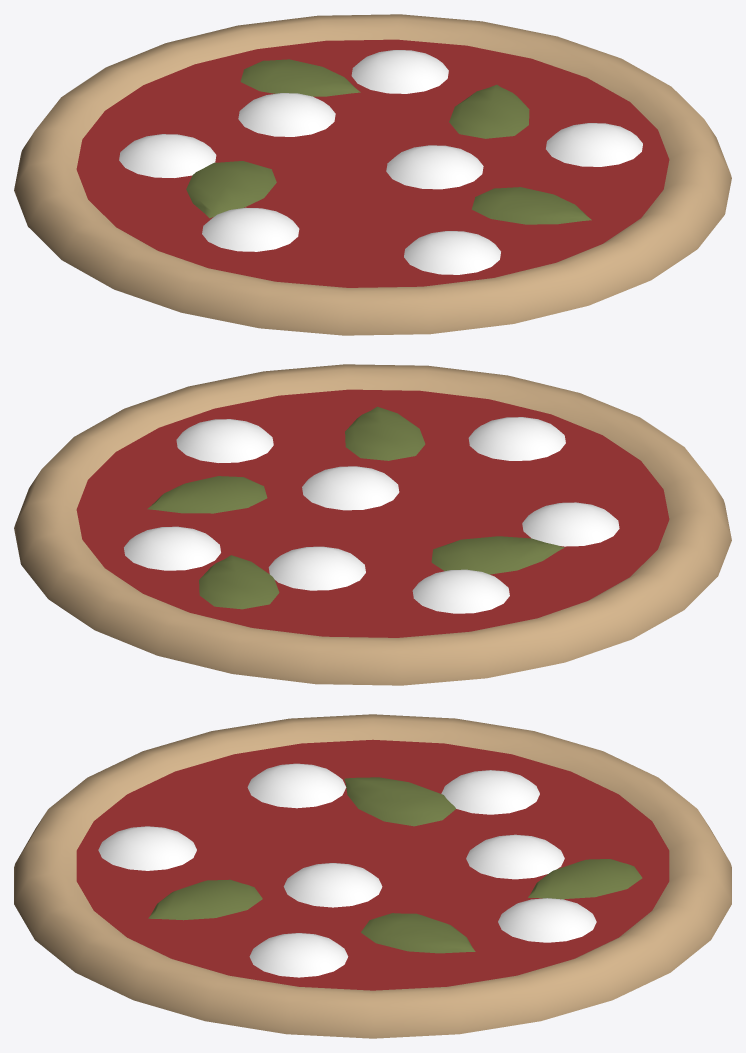
The model's file is SM_pizza_sign.fbx.
The picture shows the model from 3 angles, top to bottom: view 1: azimuth 30°, elevation 25°; view 2: azimuth 150°, elevation 25°; view 3: azimuth 270°, elevation 25°; orthographic projection.
Parts seen in each view (by area): view 1: Cylinder51279; view 2: Cylinder51279; view 3: Cylinder51279.
Boxes of the visible parts, bbox=[...] form: Cylinder51279: bbox=[14, 14, 731, 335]; Cylinder51279: bbox=[14, 364, 731, 685]; Cylinder51279: bbox=[14, 714, 731, 1038].
Size of the model in its own units: 106 by 5.76 by 105.
